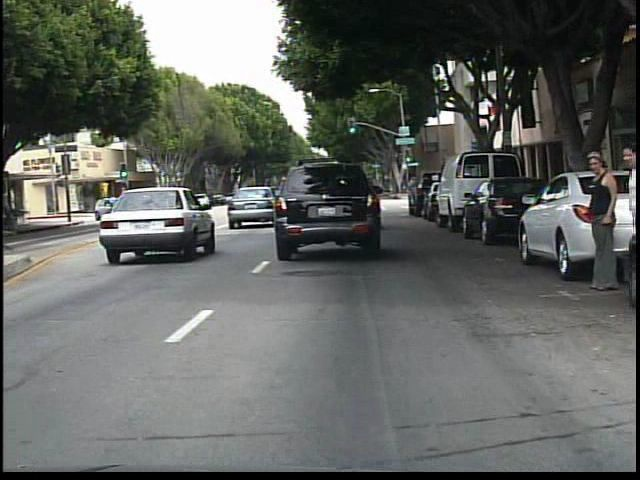person: (579, 150, 616, 296)
